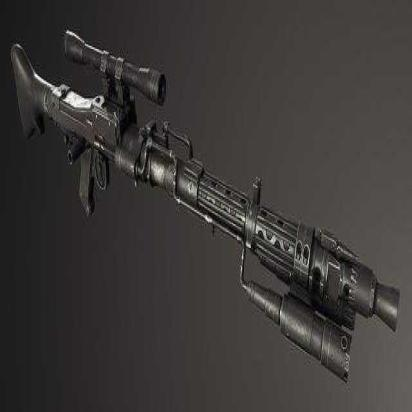Gun: (9, 23, 402, 383)
